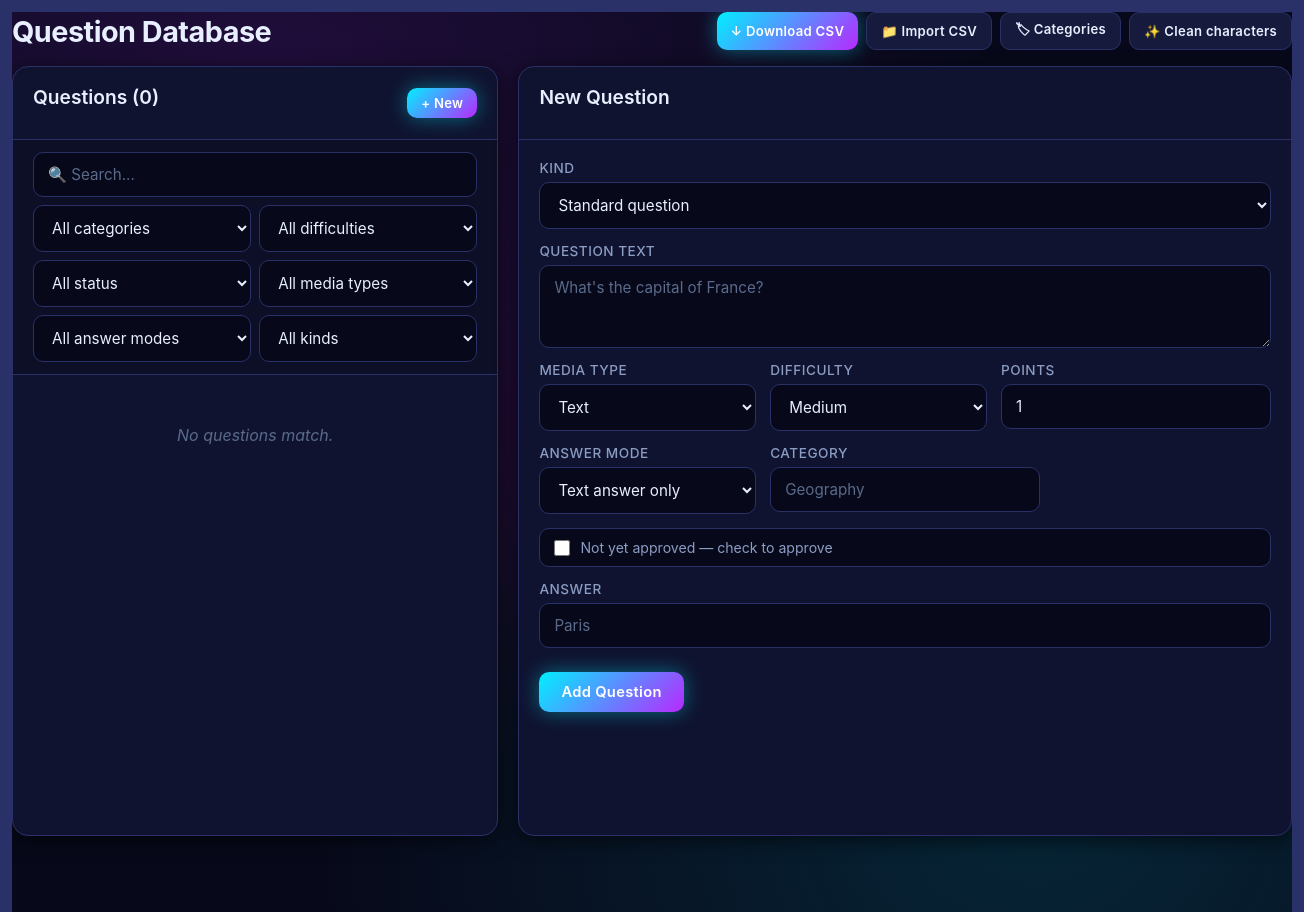
it: QuestionManager — MCQ answer selection › blocks saving a pure-MCQ question until an option is ticked
Type "Capital of France?" into the text box with placeholder "What's the capital of France?" at (905, 306), box 539,265 -> 1271,348
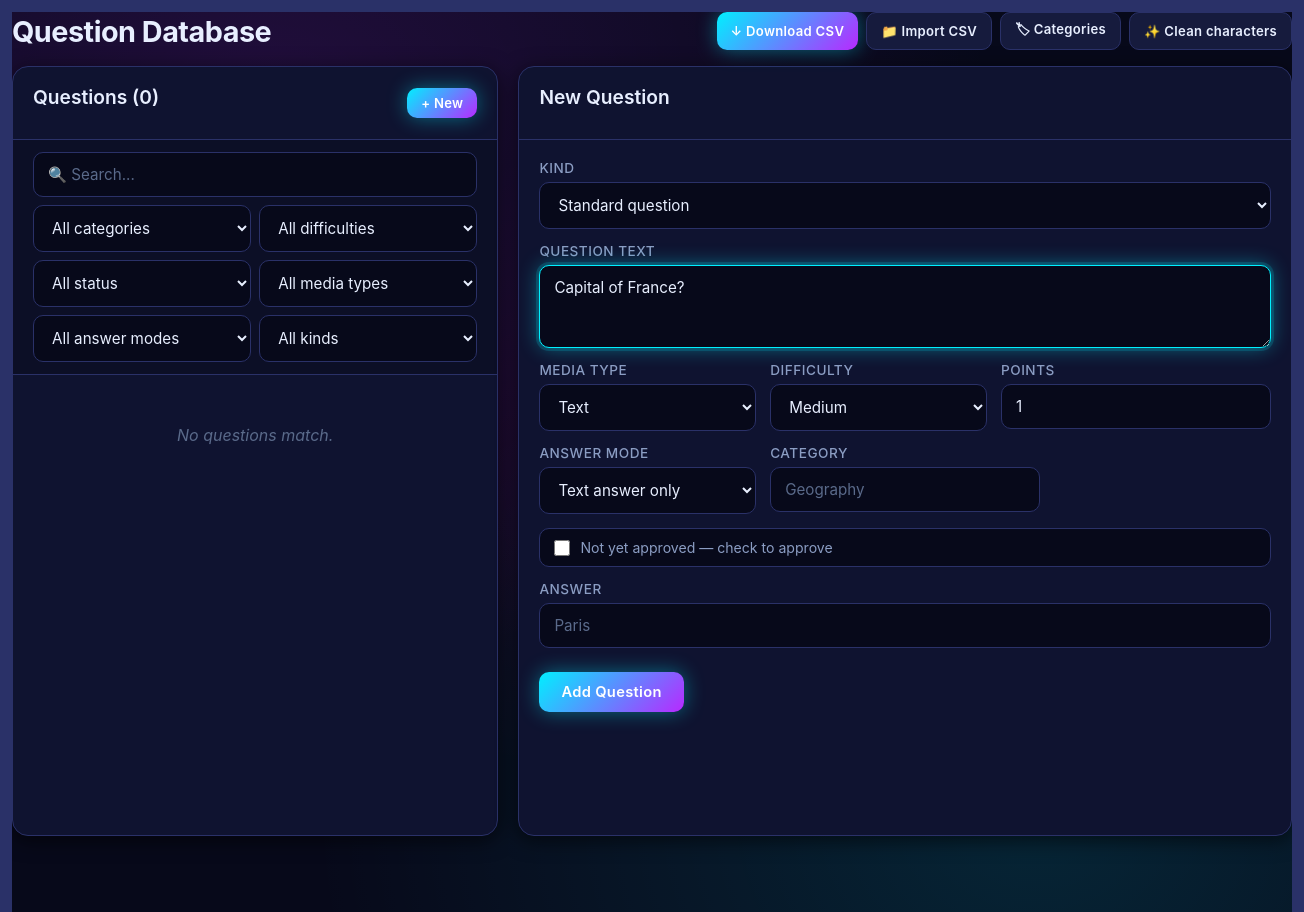
Select "Multiple choice only" in the dropdown "Text answer only" at (648, 490), box 539,467 -> 756,514
(page scrolled)
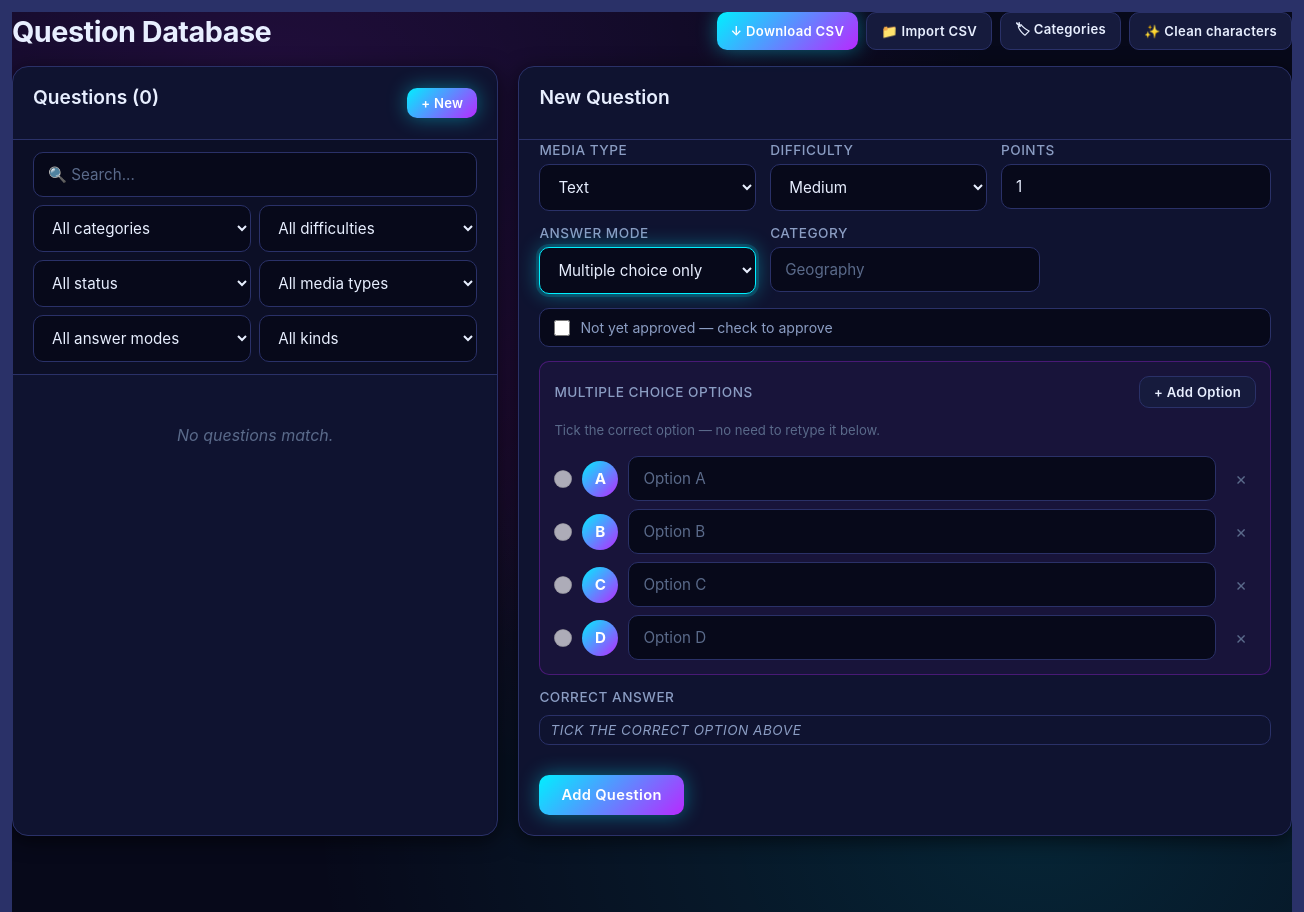
Click the button "Add Question" at (612, 795), box 539,775 -> 684,815
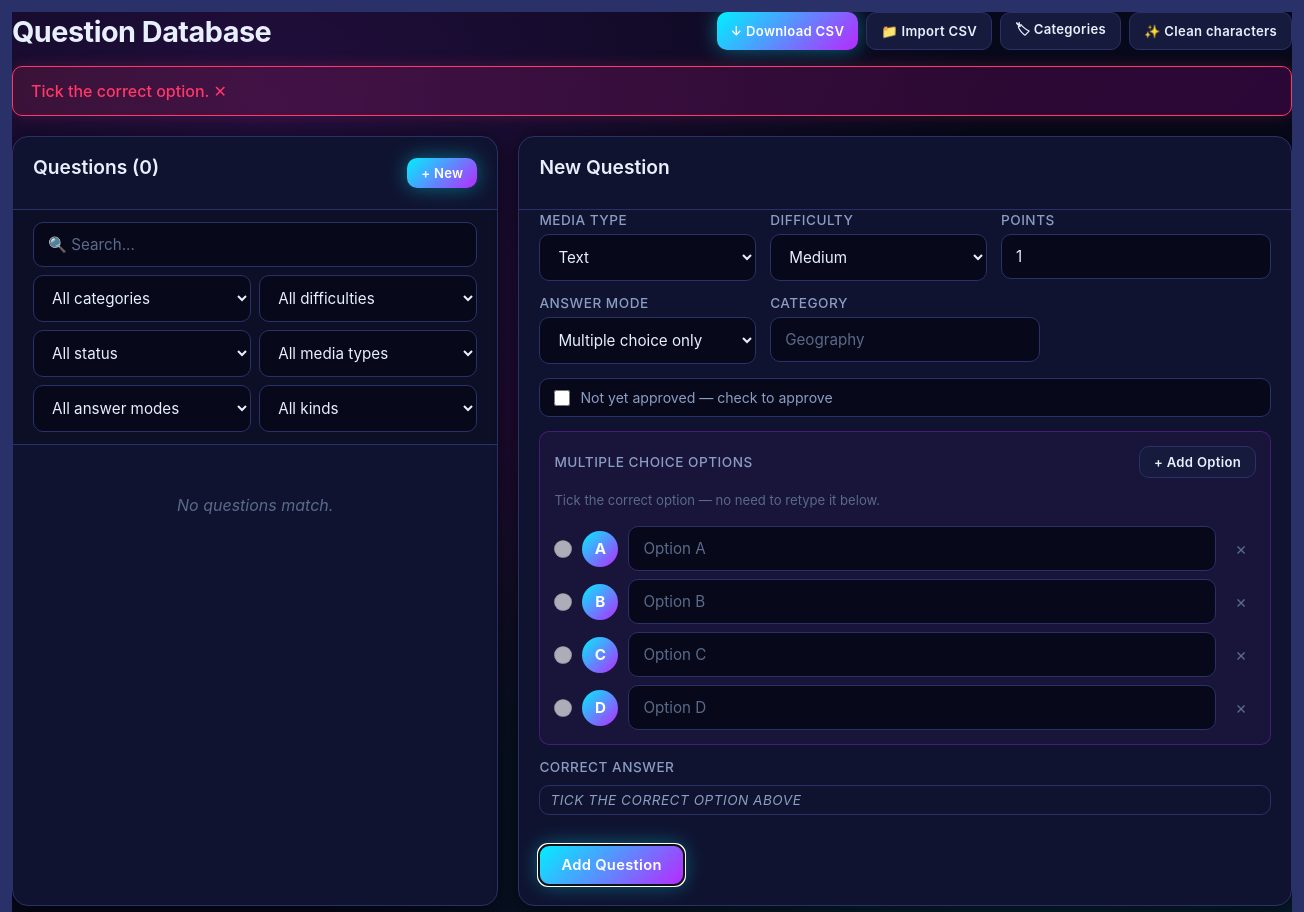
Expected: the text "Tick the correct option. ✕" is shown, 12,66 -> 1292,116
